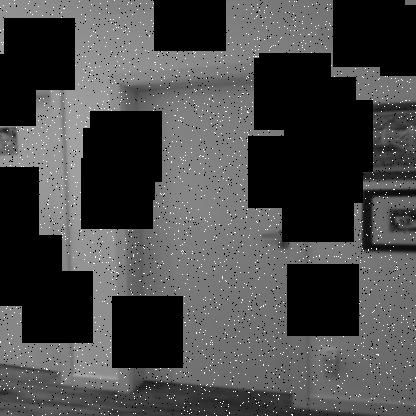Porte: (107, 58, 310, 410)
